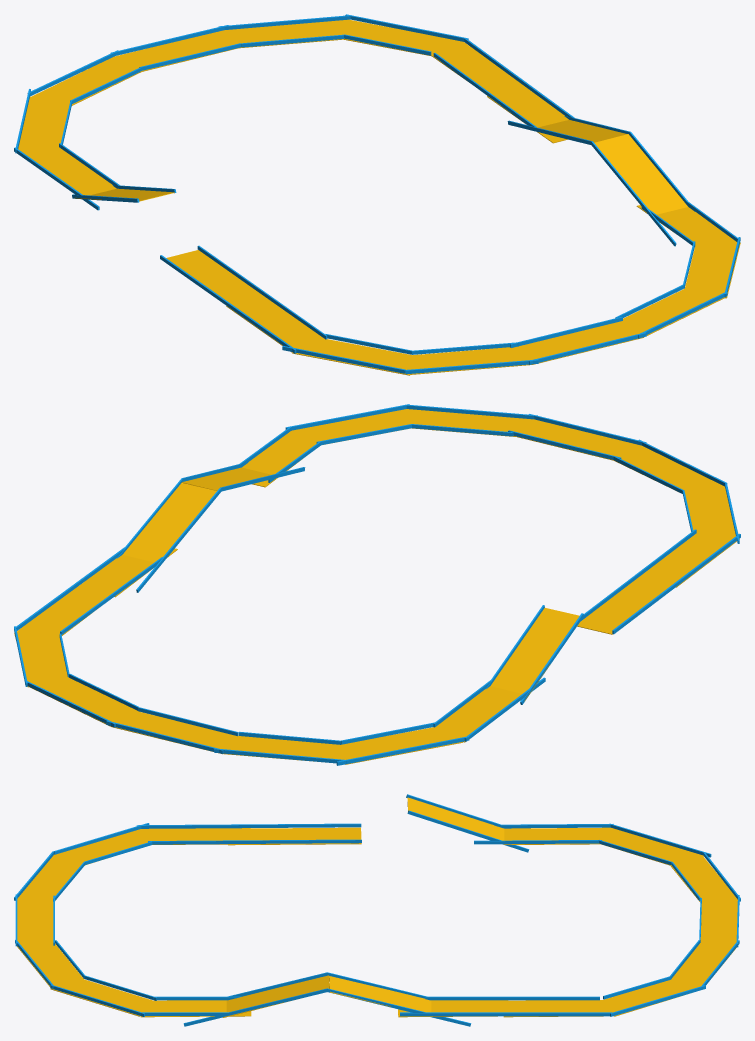
The model's file is course1.obj.
3 views of the same model, one above another, from view 1: azimuth 30°, elevation 25°; view 2: azimuth 150°, elevation 25°; view 3: azimuth 270°, elevation 25° (orthographic). The views are drawn at different scales.
Visible parts, largest first — view 1: Cube.019, Cube.016, Cube.004, Cube.011, Cube.008, Cube.001, Cube.007, Cube, Cube.009, Cube.002, Cube.012, Cube.005 (+12 smaller); view 2: Cube.014, Cube.018, Cube.016, Cube.009, Cube, Cube.007, Cube.002, Cube.001, Cube.010, Cube.003, Cube.008, Cube.012 (+12 smaller); view 3: Cube, Cube.016, Cube.001, Cube.008, Cube.007, Cube.011, Cube.009, Cube.002, Cube.018, Cube.004, Cube.019, Cube.013 (+23 smaller).
Part boxes in pixels (left/top/right/bottom): Cube.019: left=594, top=134, right=687, bottom=214; Cube.016: left=166, top=250, right=276, bottom=313; Cube.004: left=683, top=241, right=740, bottom=298; Cube.011: left=18, top=96, right=71, bottom=152; Cube.008: left=30, top=57, right=141, bottom=109; Cube.001: left=610, top=284, right=724, bottom=337; Cube.007: left=113, top=30, right=241, bottom=71; Cube: left=511, top=321, right=643, bottom=364; Cube.009: left=224, top=19, right=356, bottom=48; Cube.002: left=398, top=347, right=532, bottom=374; Cube.012: left=432, top=42, right=527, bottom=96; Cube.005: left=226, top=296, right=323, bottom=352; Cube.014: left=491, top=608, right=579, bottom=701; Cube.018: left=123, top=483, right=216, bottom=562; Cube.016: left=577, top=568, right=670, bottom=634; Cube.009: left=30, top=673, right=143, bottom=726; Cube: left=514, top=419, right=641, bottom=460; Cube.007: left=111, top=710, right=244, bottom=754; Cube.002: left=614, top=446, right=724, bottom=498; Cube.001: left=398, top=409, right=531, bottom=436; Cube.010: left=14, top=630, right=67, bottom=687; Cube.003: left=685, top=487, right=739, bottom=541; Cube.008: left=223, top=735, right=355, bottom=761; Cube.012: left=17, top=585, right=112, bottom=635; Cube: left=17, top=899, right=53, bottom=945; Cube.016: left=227, top=827, right=361, bottom=845; Cube.001: left=17, top=940, right=87, bottom=987; Cube.008: left=668, top=855, right=737, bottom=904; Cube.007: left=700, top=899, right=737, bottom=945; Cube.011: left=595, top=828, right=703, bottom=868; Cube.009: left=666, top=943, right=736, bottom=988; Cube.002: left=17, top=855, right=87, bottom=899; Cube.018: left=329, top=976, right=431, bottom=1012; Cube.004: left=50, top=977, right=161, bottom=1016; Cube.019: left=223, top=975, right=329, bottom=1017; Cube.013: left=503, top=827, right=613, bottom=844.
Size of the model in its own units: 171 by 18.72 by 275.
